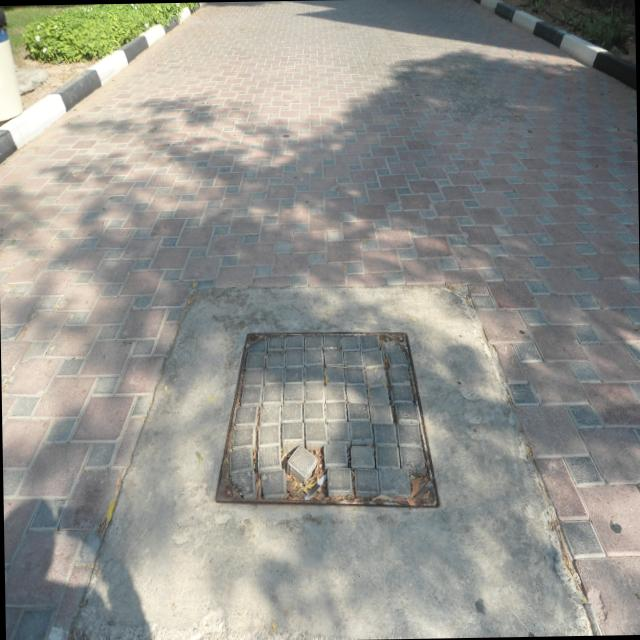path: (0, 1, 640, 640), (73, 286, 590, 640), (229, 332, 434, 505)
